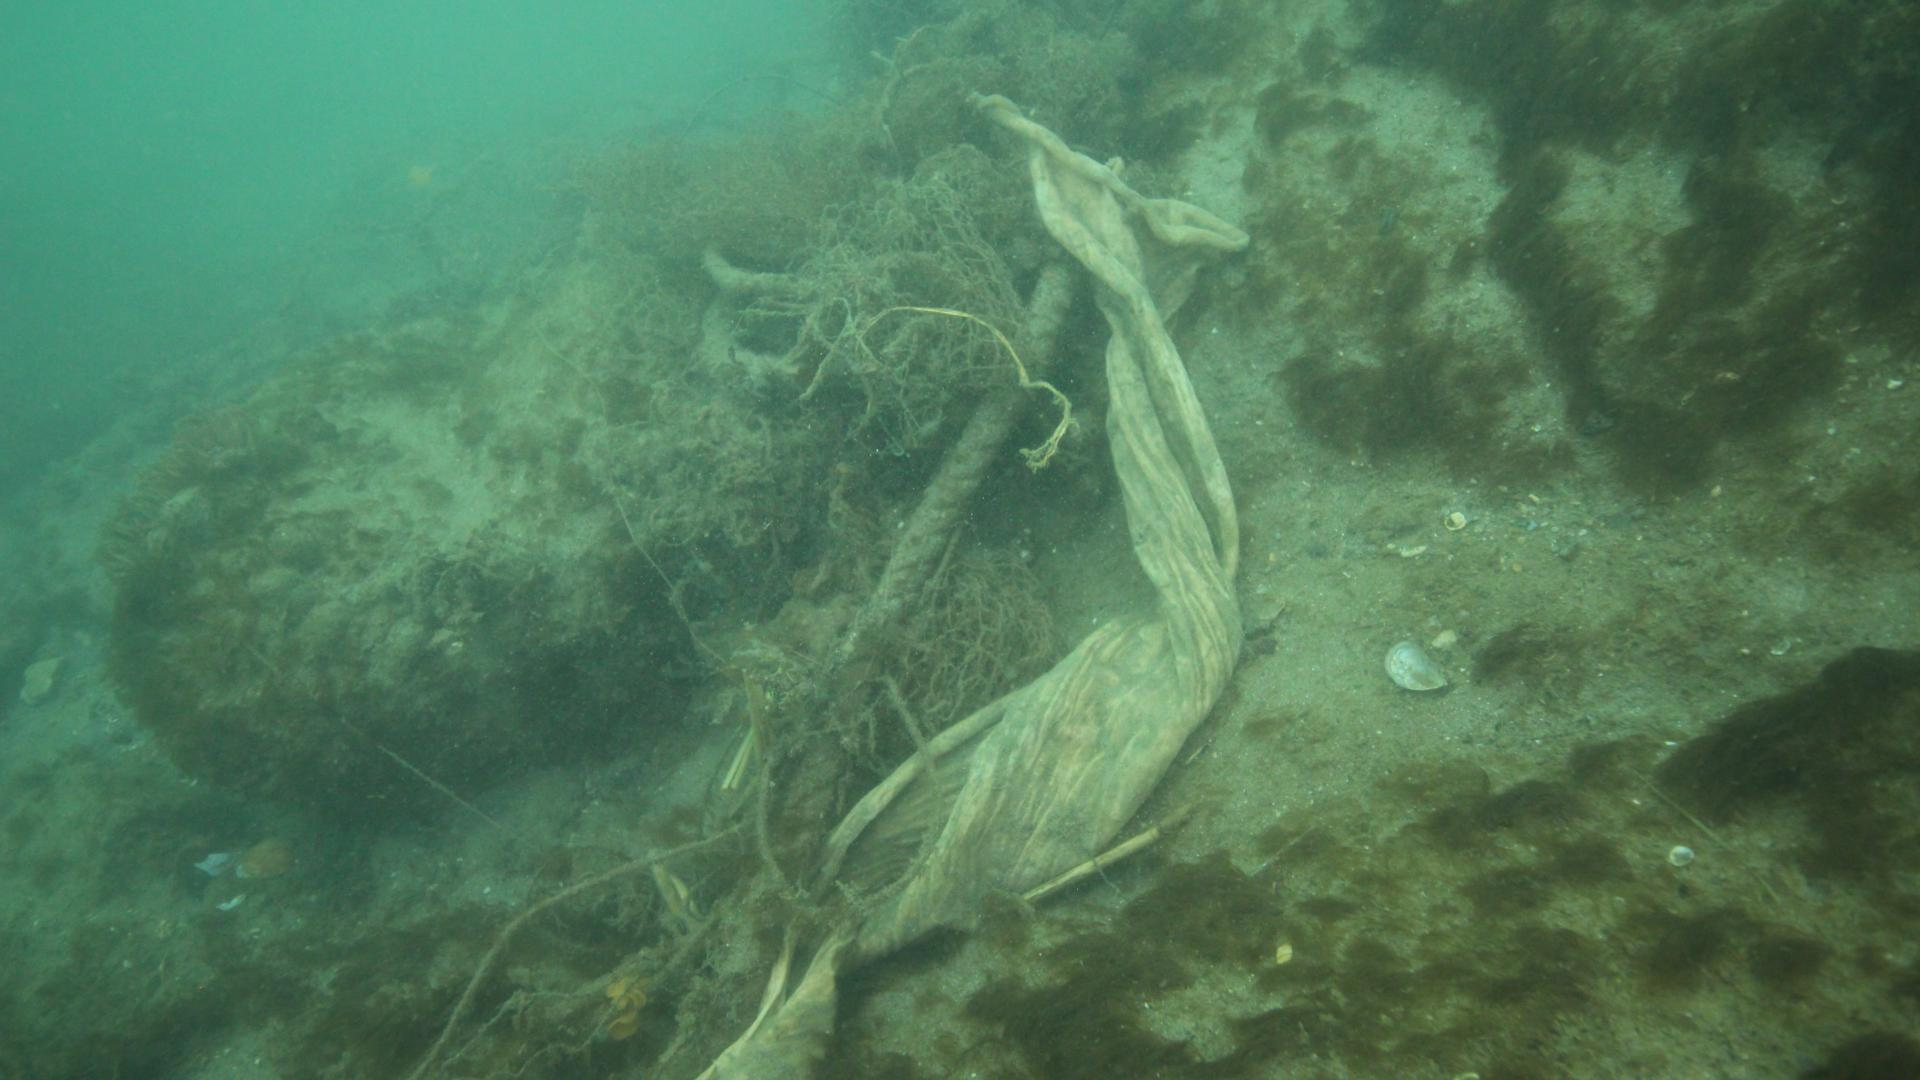rope: (698, 244, 1083, 975)
